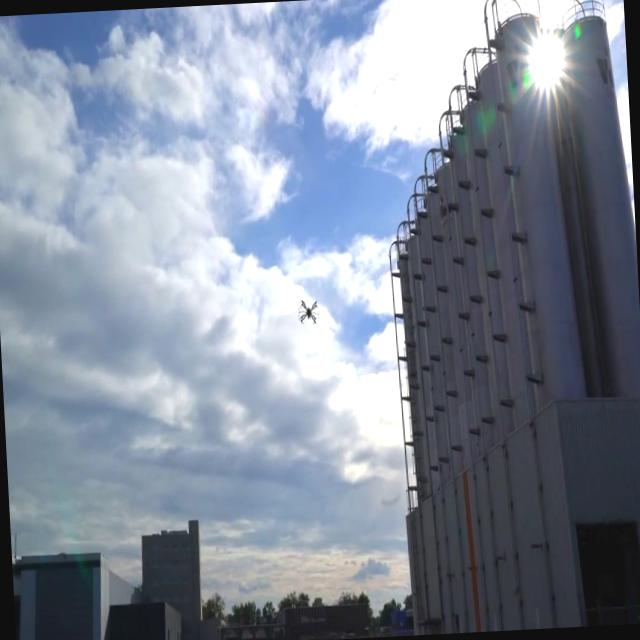drone: (296, 294, 322, 332)
